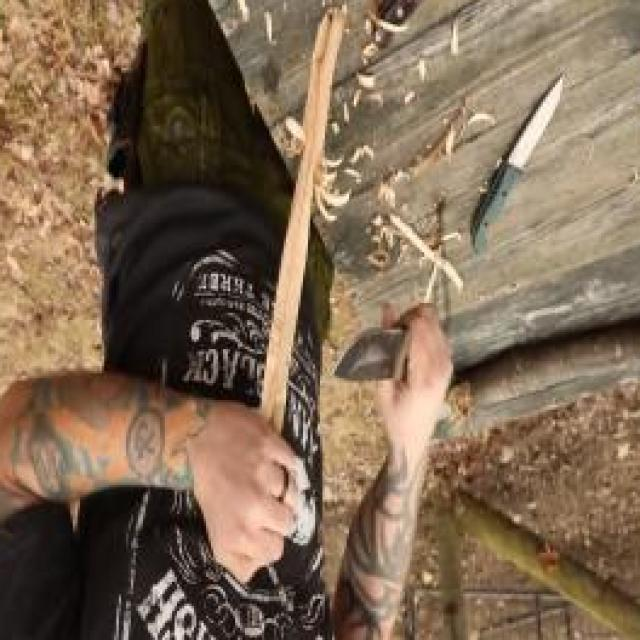knife: (320, 288, 456, 419)
